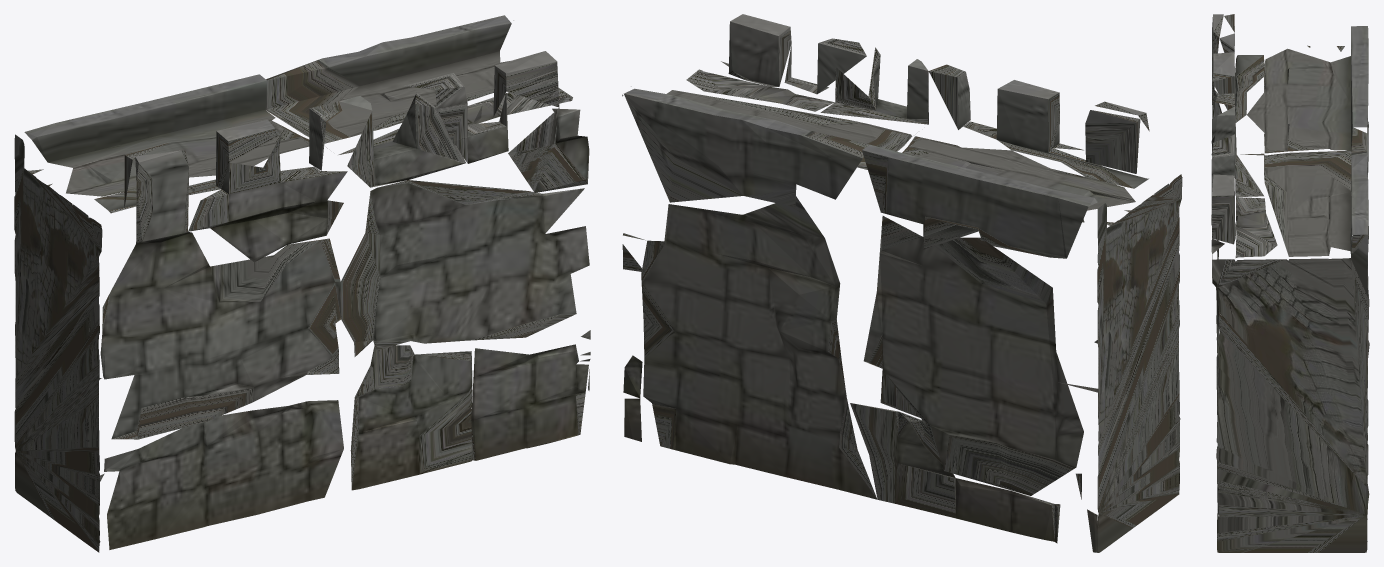
The model's file is bld_wall_section_walkway_a_LOD2.glb.
3 views of the same model, side by side, from view 1: azimuth 30°, elevation 25°; view 2: azimuth 150°, elevation 25°; view 3: azimuth 270°, elevation 25° (orthographic). The views are drawn at different scales.
Parts seen in each view (by area): view 1: geometry_0; view 2: geometry_0; view 3: geometry_0.
Boxes of the visible parts, x1,y1,x2,y2 form: geometry_0: [14, 15, 590, 552]; geometry_0: [622, 14, 1182, 552]; geometry_0: [1211, 14, 1369, 552].
Size of the model in its own units: 8 by 5.99 by 2.51.
Materials: 1 (1 with a texture image).
